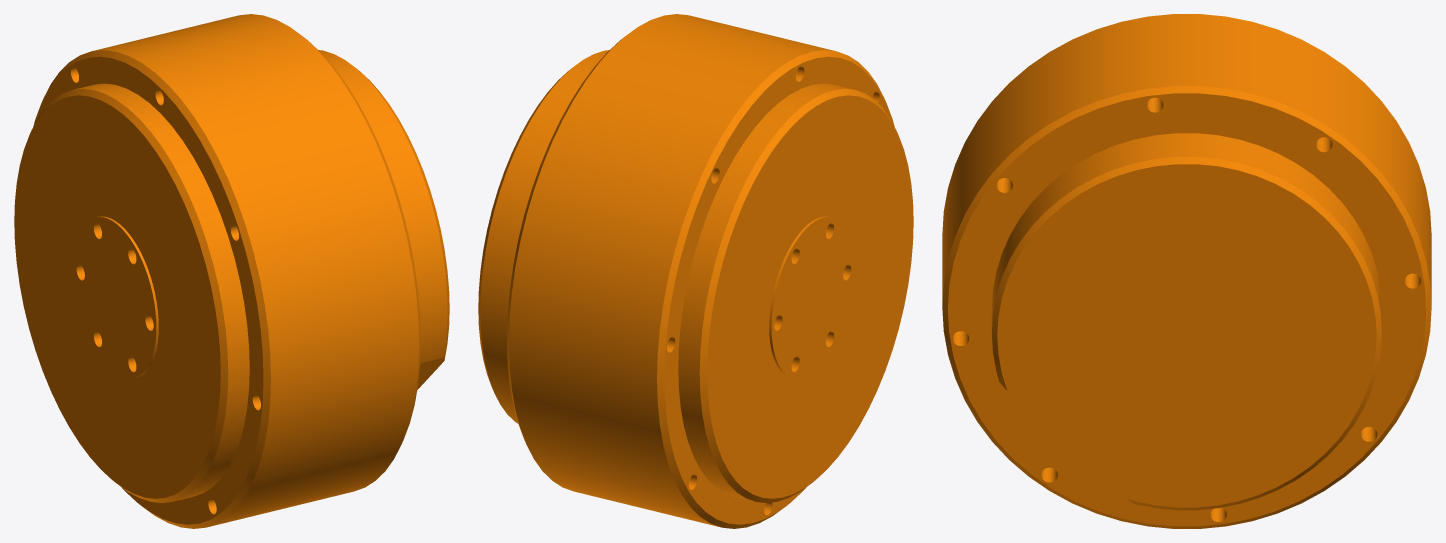
The picture shows the model from 3 angles, left to right: view 1: azimuth 30°, elevation 25°; view 2: azimuth 150°, elevation 25°; view 3: azimuth 270°, elevation 25°; orthographic projection.
Parts seen in each view (by area): view 1: mesh463, mesh450, mesh453, mesh452, mesh438, mesh466, mesh462, mesh451, mesh464, mesh469, mesh449; view 2: mesh463, mesh450, mesh453, mesh466, mesh452, mesh438, mesh462, mesh451, mesh464, mesh469, mesh449; view 3: mesh470, mesh465, mesh463, mesh466, mesh464, mesh469, mesh467.
Part boxes in pixels (x1,y1,x2,y2): mesh463: [92, 14, 418, 527]; mesh450: [14, 95, 220, 498]; mesh453: [33, 56, 263, 524]; mesh452: [74, 83, 249, 501]; mesh438: [74, 217, 156, 378]; mesh466: [318, 50, 447, 363]; mesh462: [42, 50, 270, 528]; mesh451: [30, 89, 228, 502]; mesh464: [305, 38, 420, 440]; mesh469: [356, 68, 449, 360]; mesh449: [97, 216, 158, 377]; mesh463: [509, 14, 835, 527]; mesh450: [707, 95, 913, 498]; mesh453: [664, 56, 894, 524]; mesh466: [480, 50, 609, 423]; mesh452: [678, 83, 853, 501]; mesh438: [771, 217, 853, 378]; mesh462: [657, 50, 885, 528]; mesh451: [699, 89, 897, 502]; mesh464: [507, 38, 622, 440]; mesh469: [478, 68, 571, 390]; mesh449: [769, 216, 830, 377]; mesh470: [997, 164, 1376, 507]; mesh465: [948, 93, 1425, 526]; mesh463: [942, 14, 1431, 304]; mesh466: [991, 133, 1382, 332]; mesh464: [942, 86, 1431, 528]; mesh469: [991, 157, 1382, 510]; mesh467: [1013, 397, 1098, 474].
Bounding box in the file's own units: 0.0503 × 0.0889 × 0.089.
